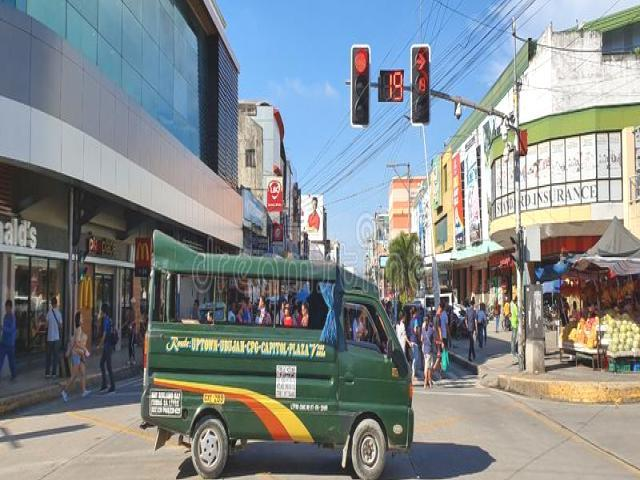jeepney: (133, 205, 435, 480)
